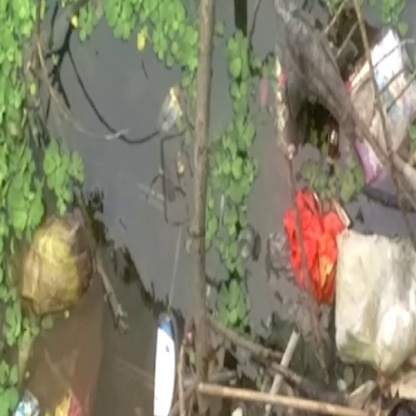bottle: (143, 313, 179, 413)
plastic-bag: (16, 217, 97, 322), (278, 187, 349, 300)
